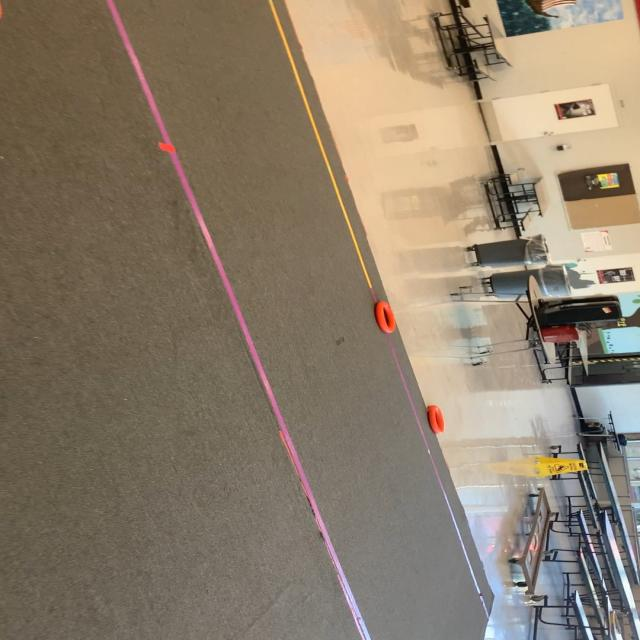notes: (367, 300, 403, 336), (424, 406, 446, 435)
